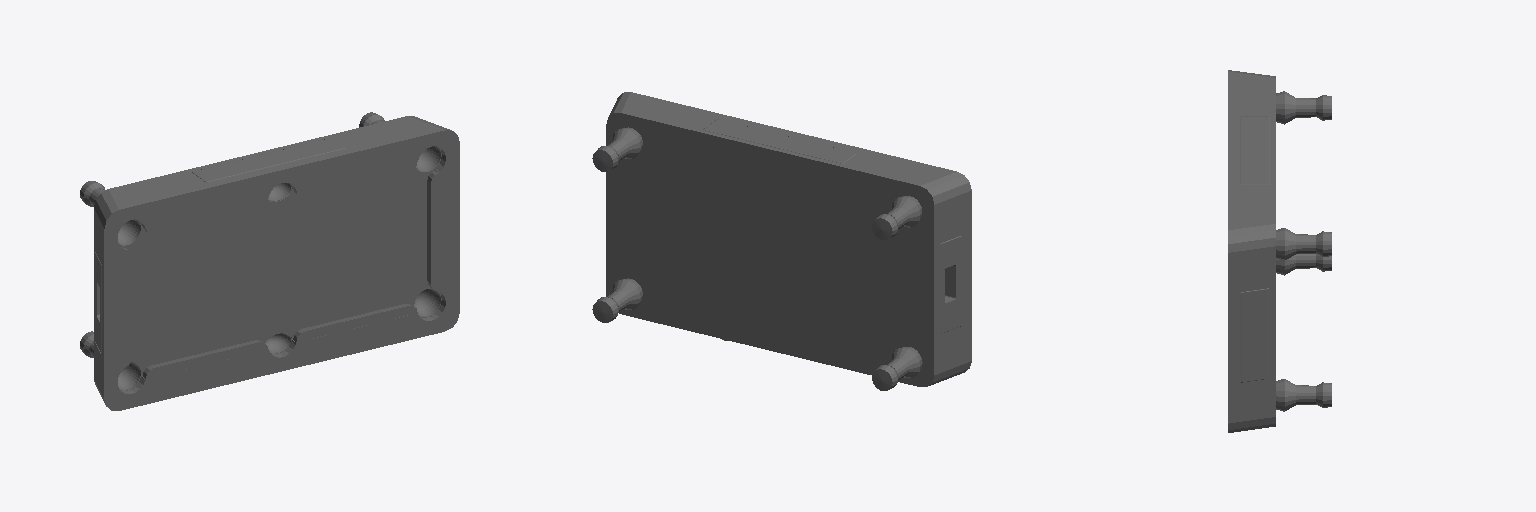
Rendered from Table.obj.
The picture shows the model from 3 angles: view 1: azimuth 30°, elevation 25°; view 2: azimuth 150°, elevation 25°; view 3: azimuth 270°, elevation 25°; orthographic projection.
Parts seen in each view (by area): view 1: Box001; view 2: Box001; view 3: Box001.
Boxes of the visible parts, <box> form: Box001: <box>80,112,459,410</box>; Box001: <box>592,92,971,390</box>; Box001: <box>1228,70,1331,432</box>.
Size of the model in its own units: 1.11 by 0.6279 by 0.2829.